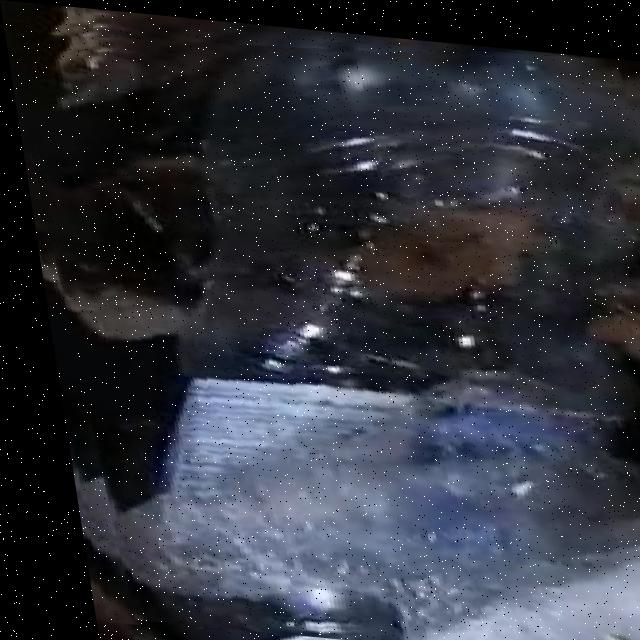plasticbottle: (0, 4, 640, 640)
